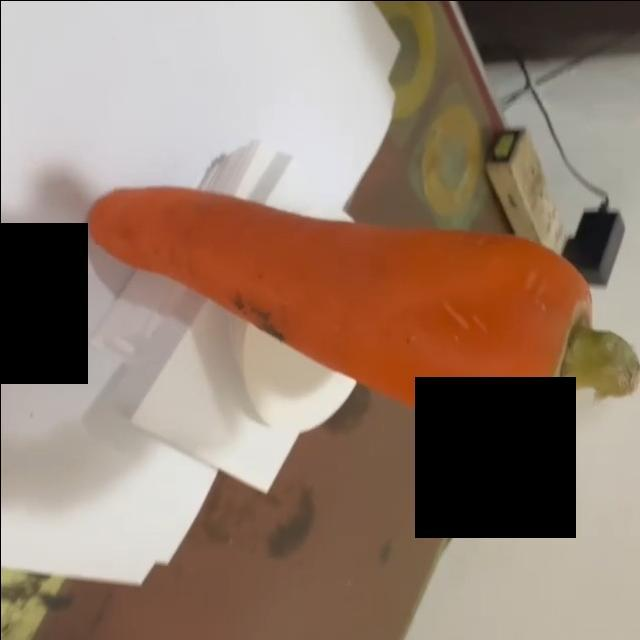carrot: (83, 184, 640, 438)
